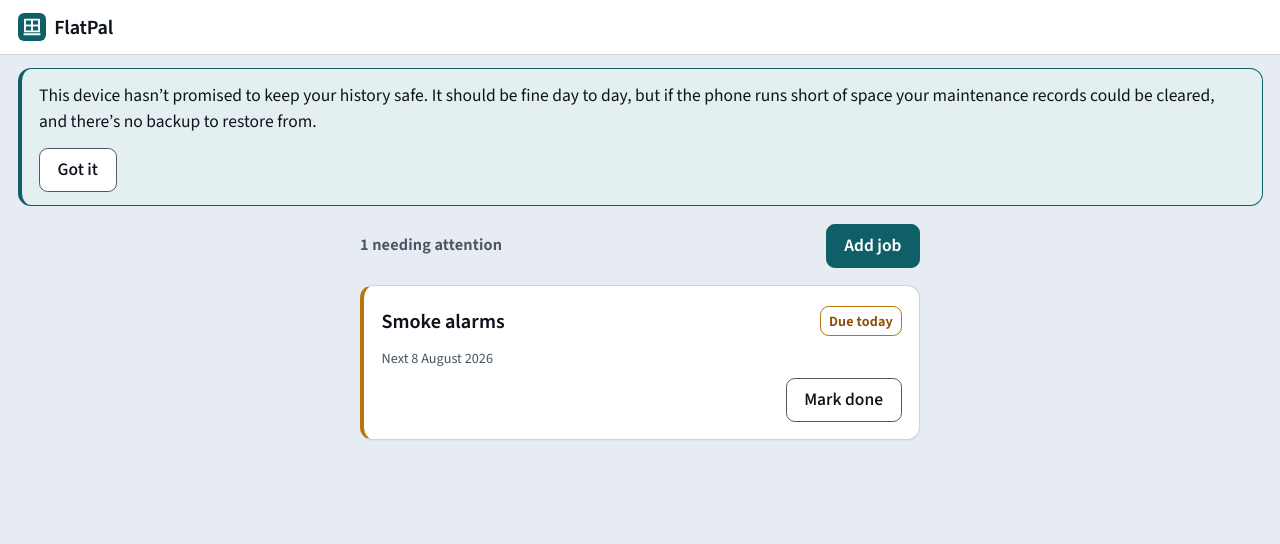
marking a job done › takes a due job out of the group needing attention
Expected: the heading "1 needing attention" is shown, [360,233,502,258]
Click the button "Mark done": point(844, 400) [786,378,902,422]
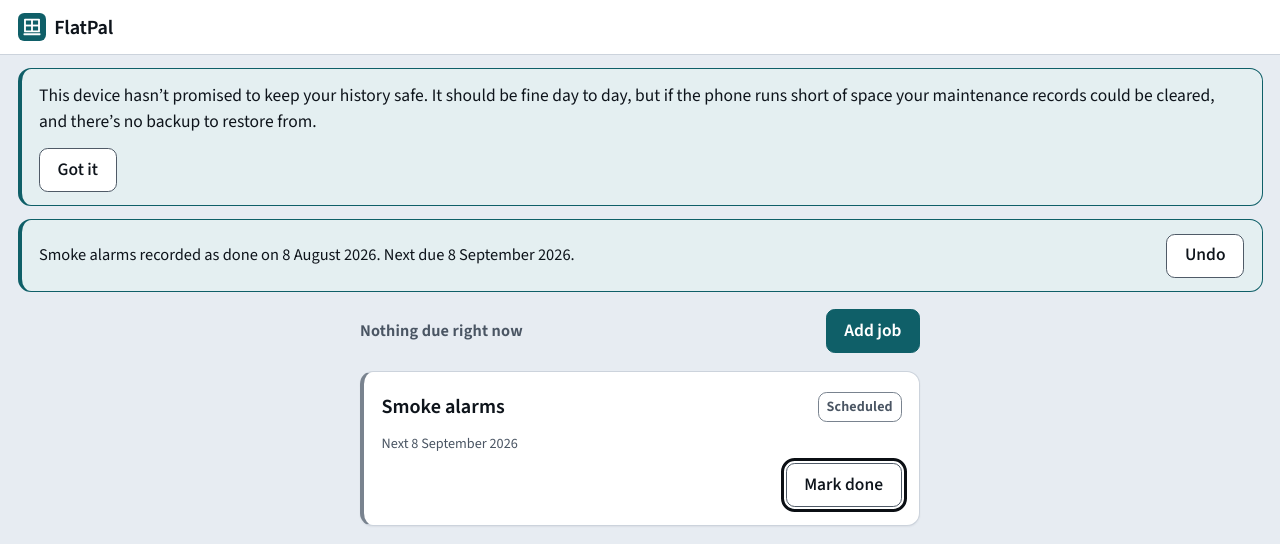
Expected: the heading "Nothing due right now" is shown, [360,319,523,343]
Expected: the text "Scheduled" is shown, [818,392,902,422]
